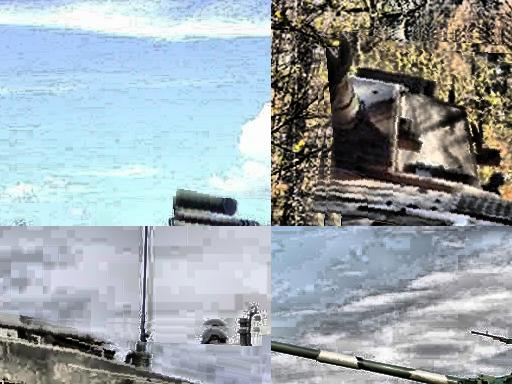tanks: (326, 31, 512, 227), (1, 319, 200, 384), (272, 343, 512, 384), (175, 192, 257, 227), (508, 341, 512, 344)
